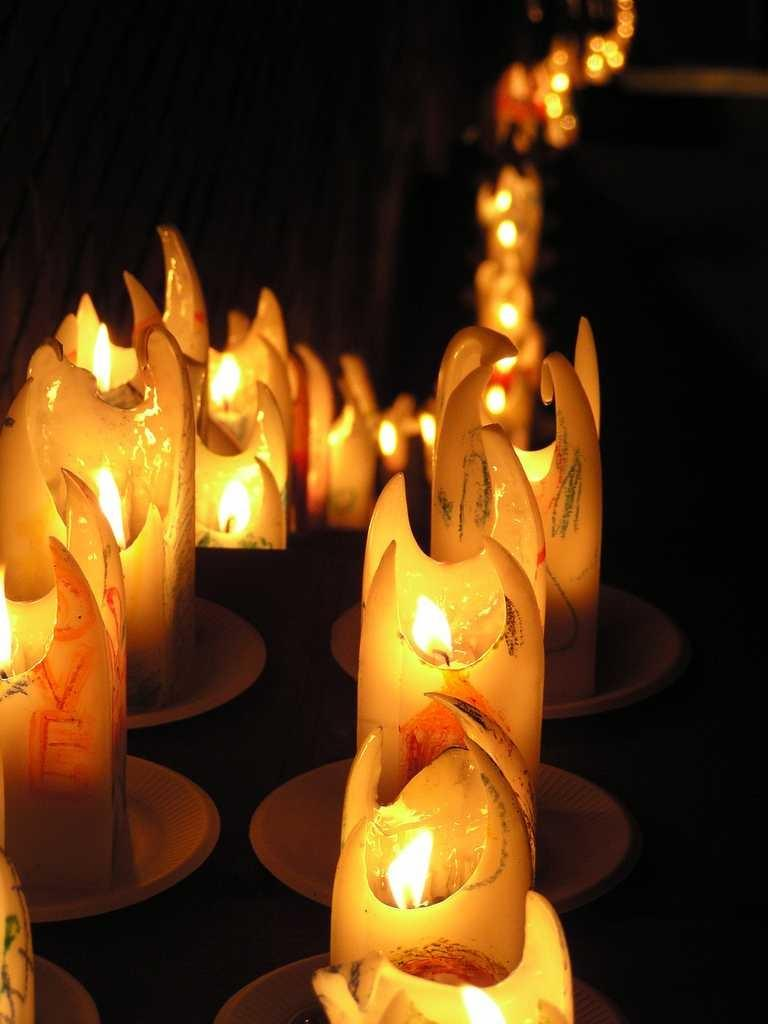fire: (390, 830, 437, 902), (92, 460, 123, 523), (412, 597, 450, 648), (215, 485, 248, 537), (93, 322, 113, 380)
